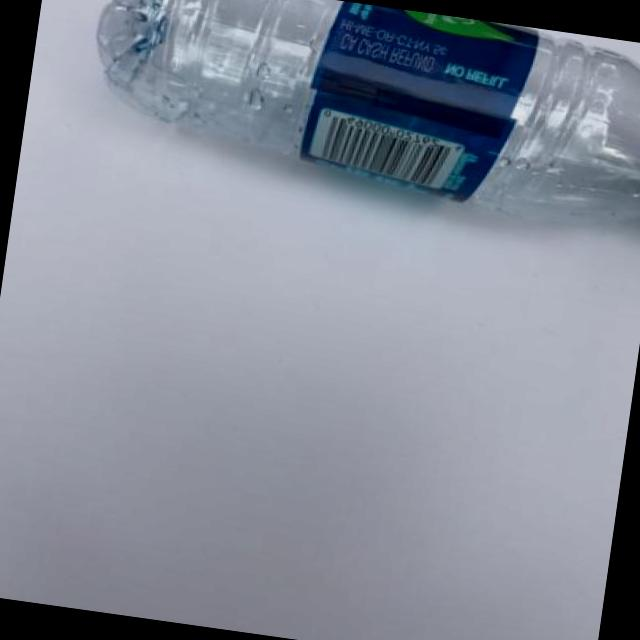plastic: (73, 0, 640, 246)
